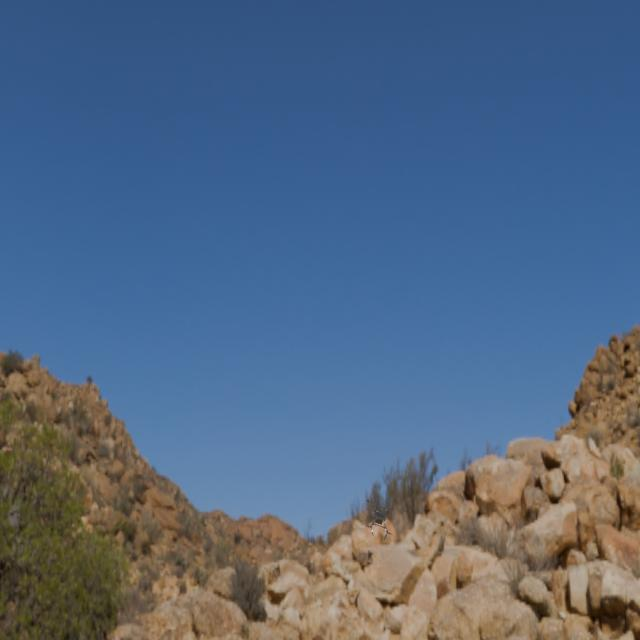drone: (365, 495, 394, 540)
